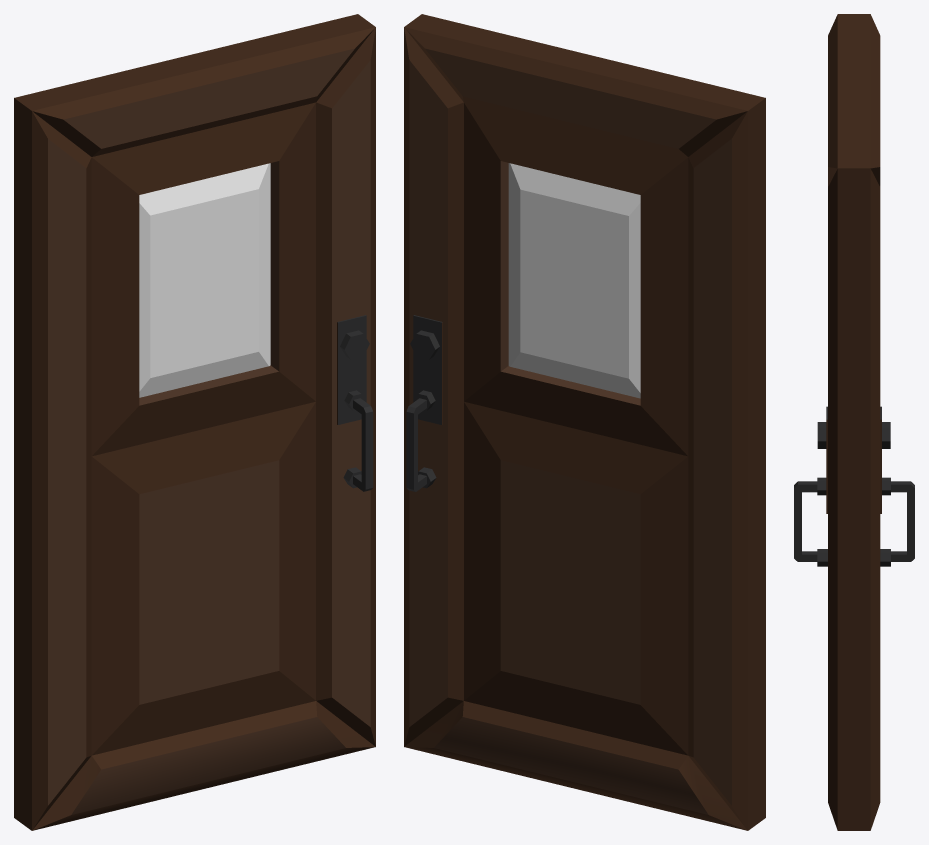
The model's file is fe9fd028-438f-4977-aeb4-9d599903c564.glb.
The picture shows the model from 3 angles, left to right: view 1: azimuth 30°, elevation 25°; view 2: azimuth 150°, elevation 25°; view 3: azimuth 270°, elevation 25°; orthographic projection. The views are drawn at different scales.
Parts seen in each view (by area): view 1: Door, Glass15; view 2: Door, Glass15; view 3: Door.
Boxes of the visible parts, x1=… form: Door: x1=14, y1=14, x2=375, y2=830; Glass15: x1=139, y1=163, x2=270, y2=397; Door: x1=404, y1=14, x2=765, y2=830; Glass15: x1=508, y1=163, x2=640, y2=398; Door: x1=794, y1=14, x2=914, y2=830.
Size of the model in its own units: 162 by 325 by 53.79.
Materials: 1 (1 with a texture image).
